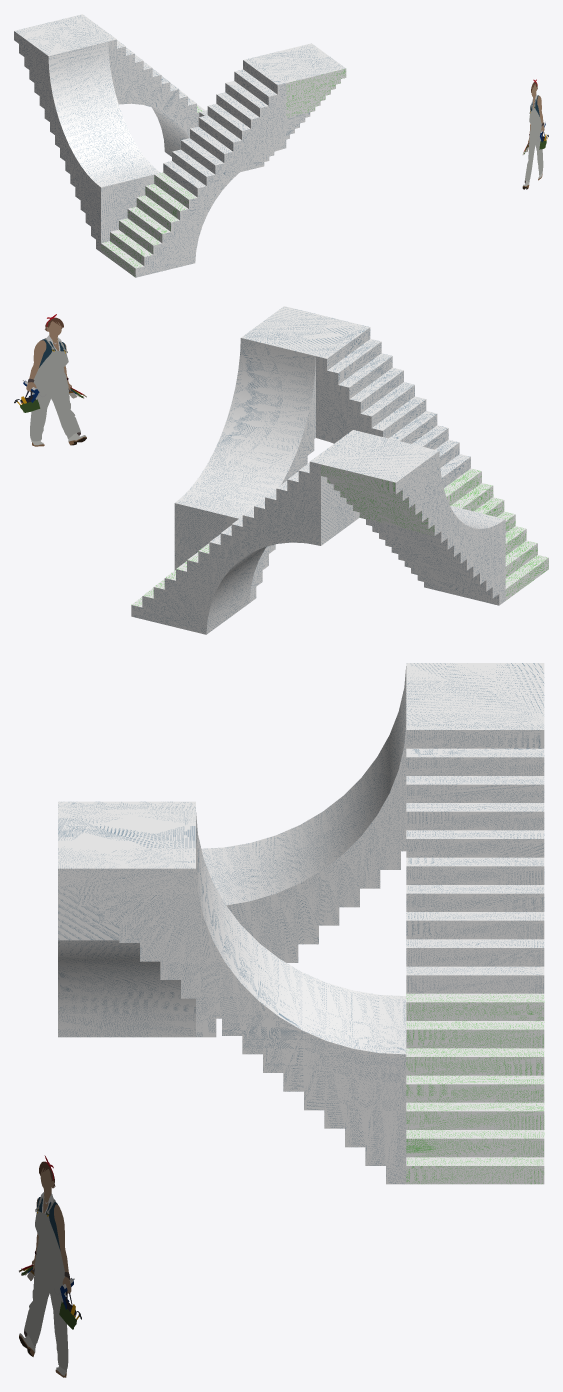
File: escher.dae
3 renders of one model, top to bottom at view 1: azimuth 30°, elevation 25°; view 2: azimuth 150°, elevation 25°; view 3: azimuth 270°, elevation 25°, orthographic. The views are drawn at different scales.
Parts seen in each view (by area): view 1: Компонент_1 (×6), Lisanne; view 2: Компонент_1 (×7), Lisanne; view 3: Компонент_1 (×5), Lisanne.
Boxes of the visible parts, box(x1,y1,x2,y2) form: Компонент_1 (×6): box(14, 14, 346, 277); Lisanne: box(524, 108, 543, 182); Компонент_1 (×7): box(131, 306, 548, 634); Lisanne: box(30, 350, 80, 441); Компонент_1 (×5): box(58, 663, 544, 1184); Lisanne: box(24, 1211, 68, 1370).
Bounding box in the file's own units: 279 × 152 × 101.
